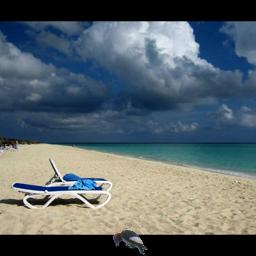Woodpecker: (112, 229, 148, 256)
